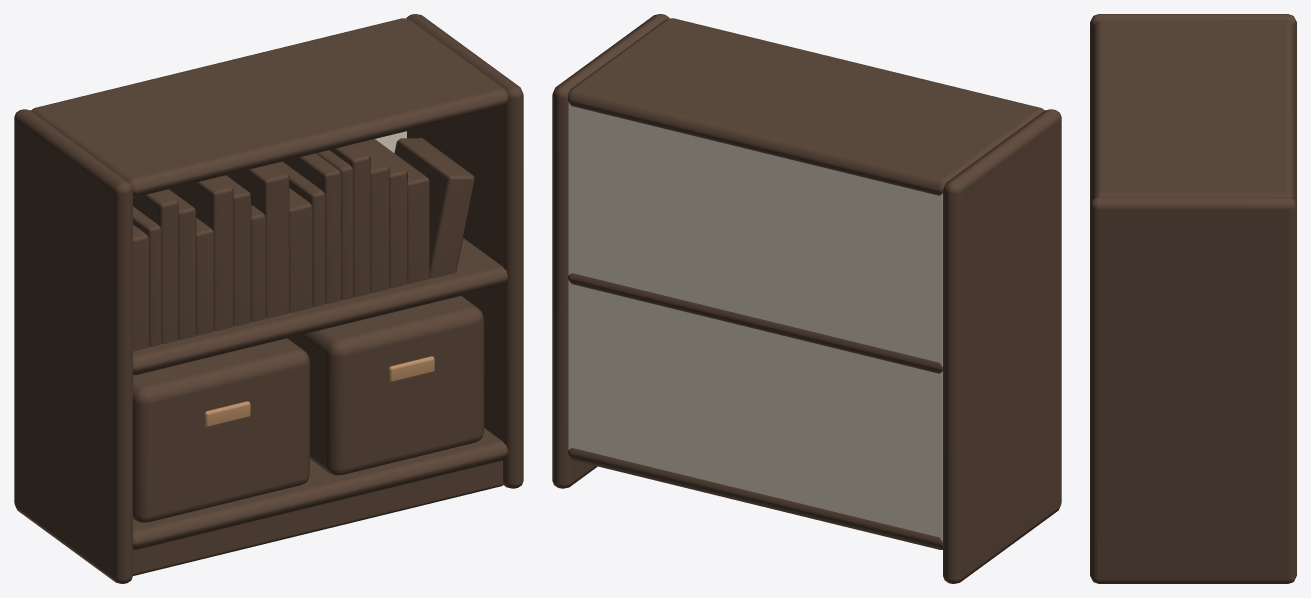
File: lowcase.glb
3 renders of one model, left to right at view 1: azimuth 30°, elevation 25°; view 2: azimuth 150°, elevation 25°; view 3: azimuth 270°, elevation 25°, orthographic. The views are drawn at different scales.
Parts seen in each view (by area): view 1: lowcase; view 2: lowcase; view 3: lowcase.
Part boxes in pixels (x1=…): lowcase: x1=14, y1=14, x2=523, y2=583; lowcase: x1=552, y1=14, x2=1061, y2=583; lowcase: x1=1090, y1=14, x2=1296, y2=583.
Size of the model in its own units: 0.8087 by 0.7587 by 0.3687.
